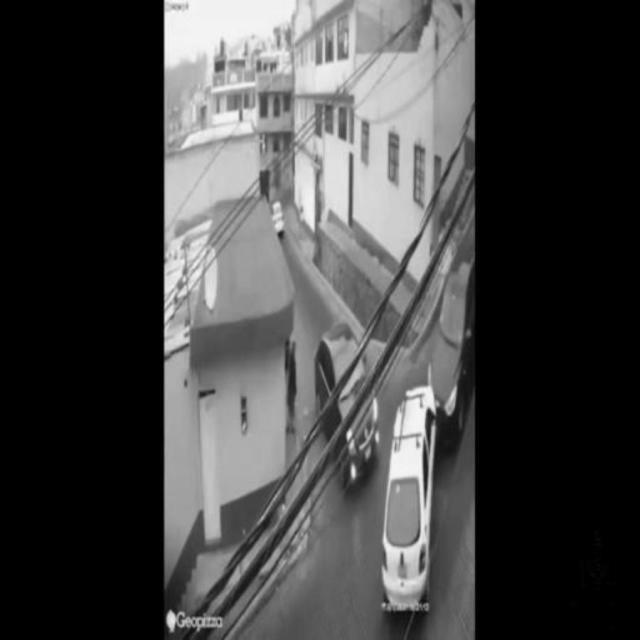accident: (381, 238, 471, 618)
vehicle: (310, 325, 380, 487)
